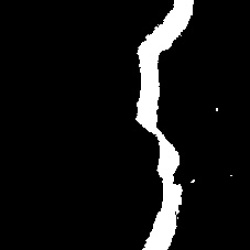crack: (137, 2, 193, 246)
pinhole: (215, 106, 218, 114), (191, 179, 195, 185)
